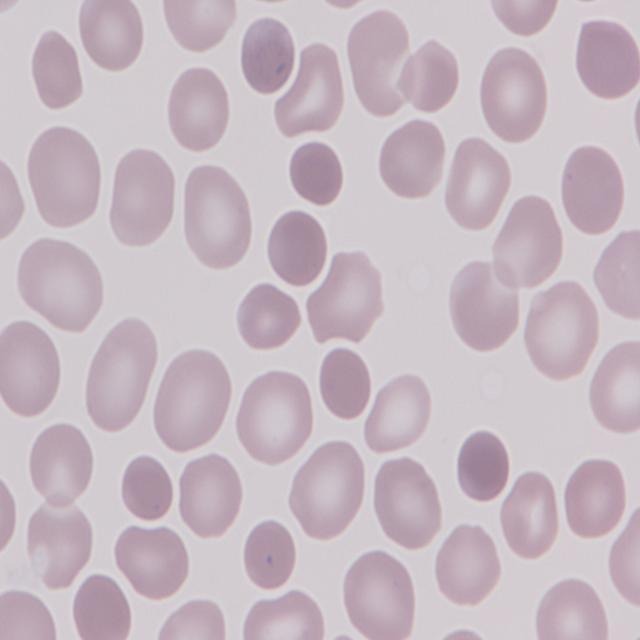RBC: (14, 234, 108, 335), (147, 348, 234, 454), (80, 320, 158, 437), (176, 159, 254, 275), (24, 124, 106, 232), (521, 280, 603, 383), (287, 443, 367, 544), (235, 367, 317, 465), (492, 188, 568, 292), (104, 146, 178, 252), (476, 41, 550, 144), (344, 6, 412, 116), (368, 456, 445, 553), (310, 248, 386, 345), (241, 23, 319, 117), (440, 135, 514, 234), (446, 260, 522, 355), (342, 548, 419, 640), (276, 41, 346, 138), (558, 142, 626, 238), (23, 418, 93, 511), (112, 519, 192, 600), (430, 520, 502, 608), (165, 64, 233, 156), (175, 450, 243, 542), (0, 320, 61, 420), (374, 120, 447, 202), (499, 471, 565, 558), (562, 461, 630, 545), (573, 15, 640, 100), (366, 370, 434, 453), (584, 338, 640, 437), (398, 36, 463, 116), (232, 278, 302, 352), (28, 26, 86, 112), (79, 0, 146, 74), (534, 577, 611, 640), (158, 0, 242, 57), (592, 228, 640, 325), (240, 590, 326, 640), (71, 573, 133, 640), (607, 508, 640, 612), (1, 588, 62, 640), (150, 600, 228, 640), (485, 1, 561, 38), (0, 456, 23, 574), (0, 153, 28, 249)
Spherocyte: (264, 206, 330, 292), (234, 13, 297, 98), (316, 344, 372, 426), (282, 135, 344, 208), (455, 426, 513, 504), (240, 516, 298, 594), (118, 450, 176, 526)
